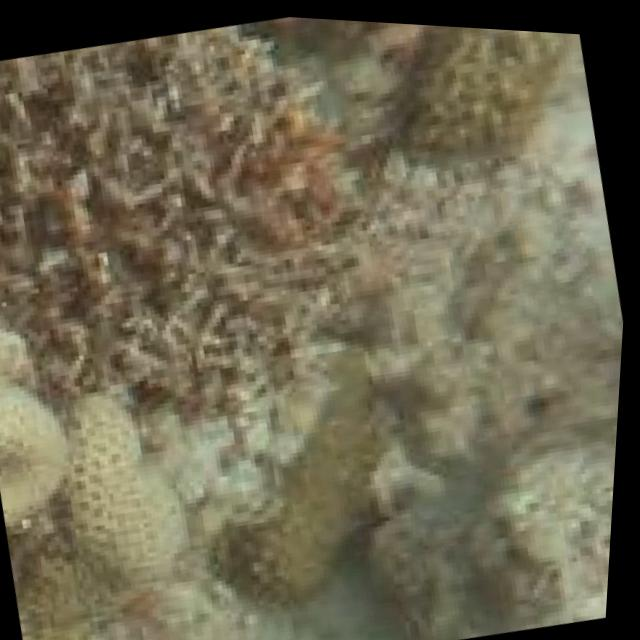Bleached Coral: (0, 348, 237, 640)
